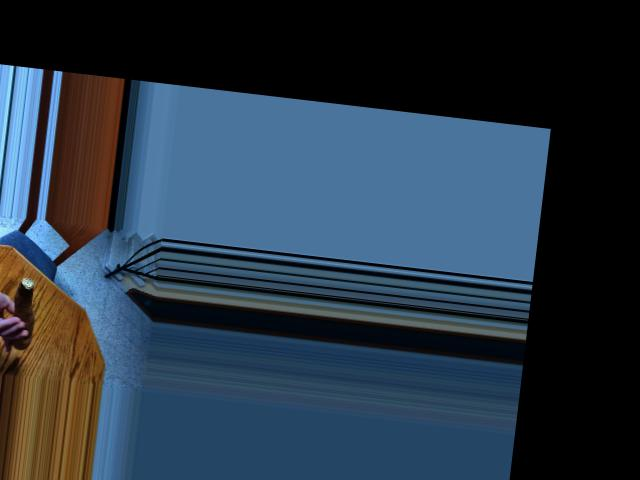sweet_potato: (11, 285, 45, 346)
